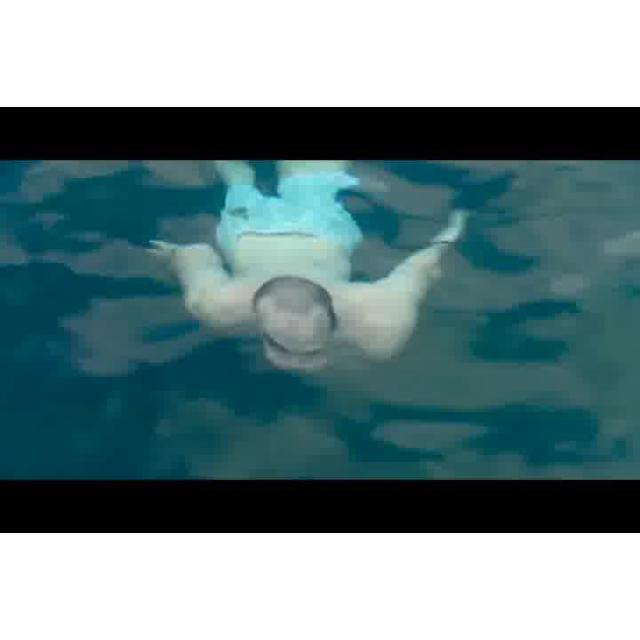human: (148, 155, 472, 376)
